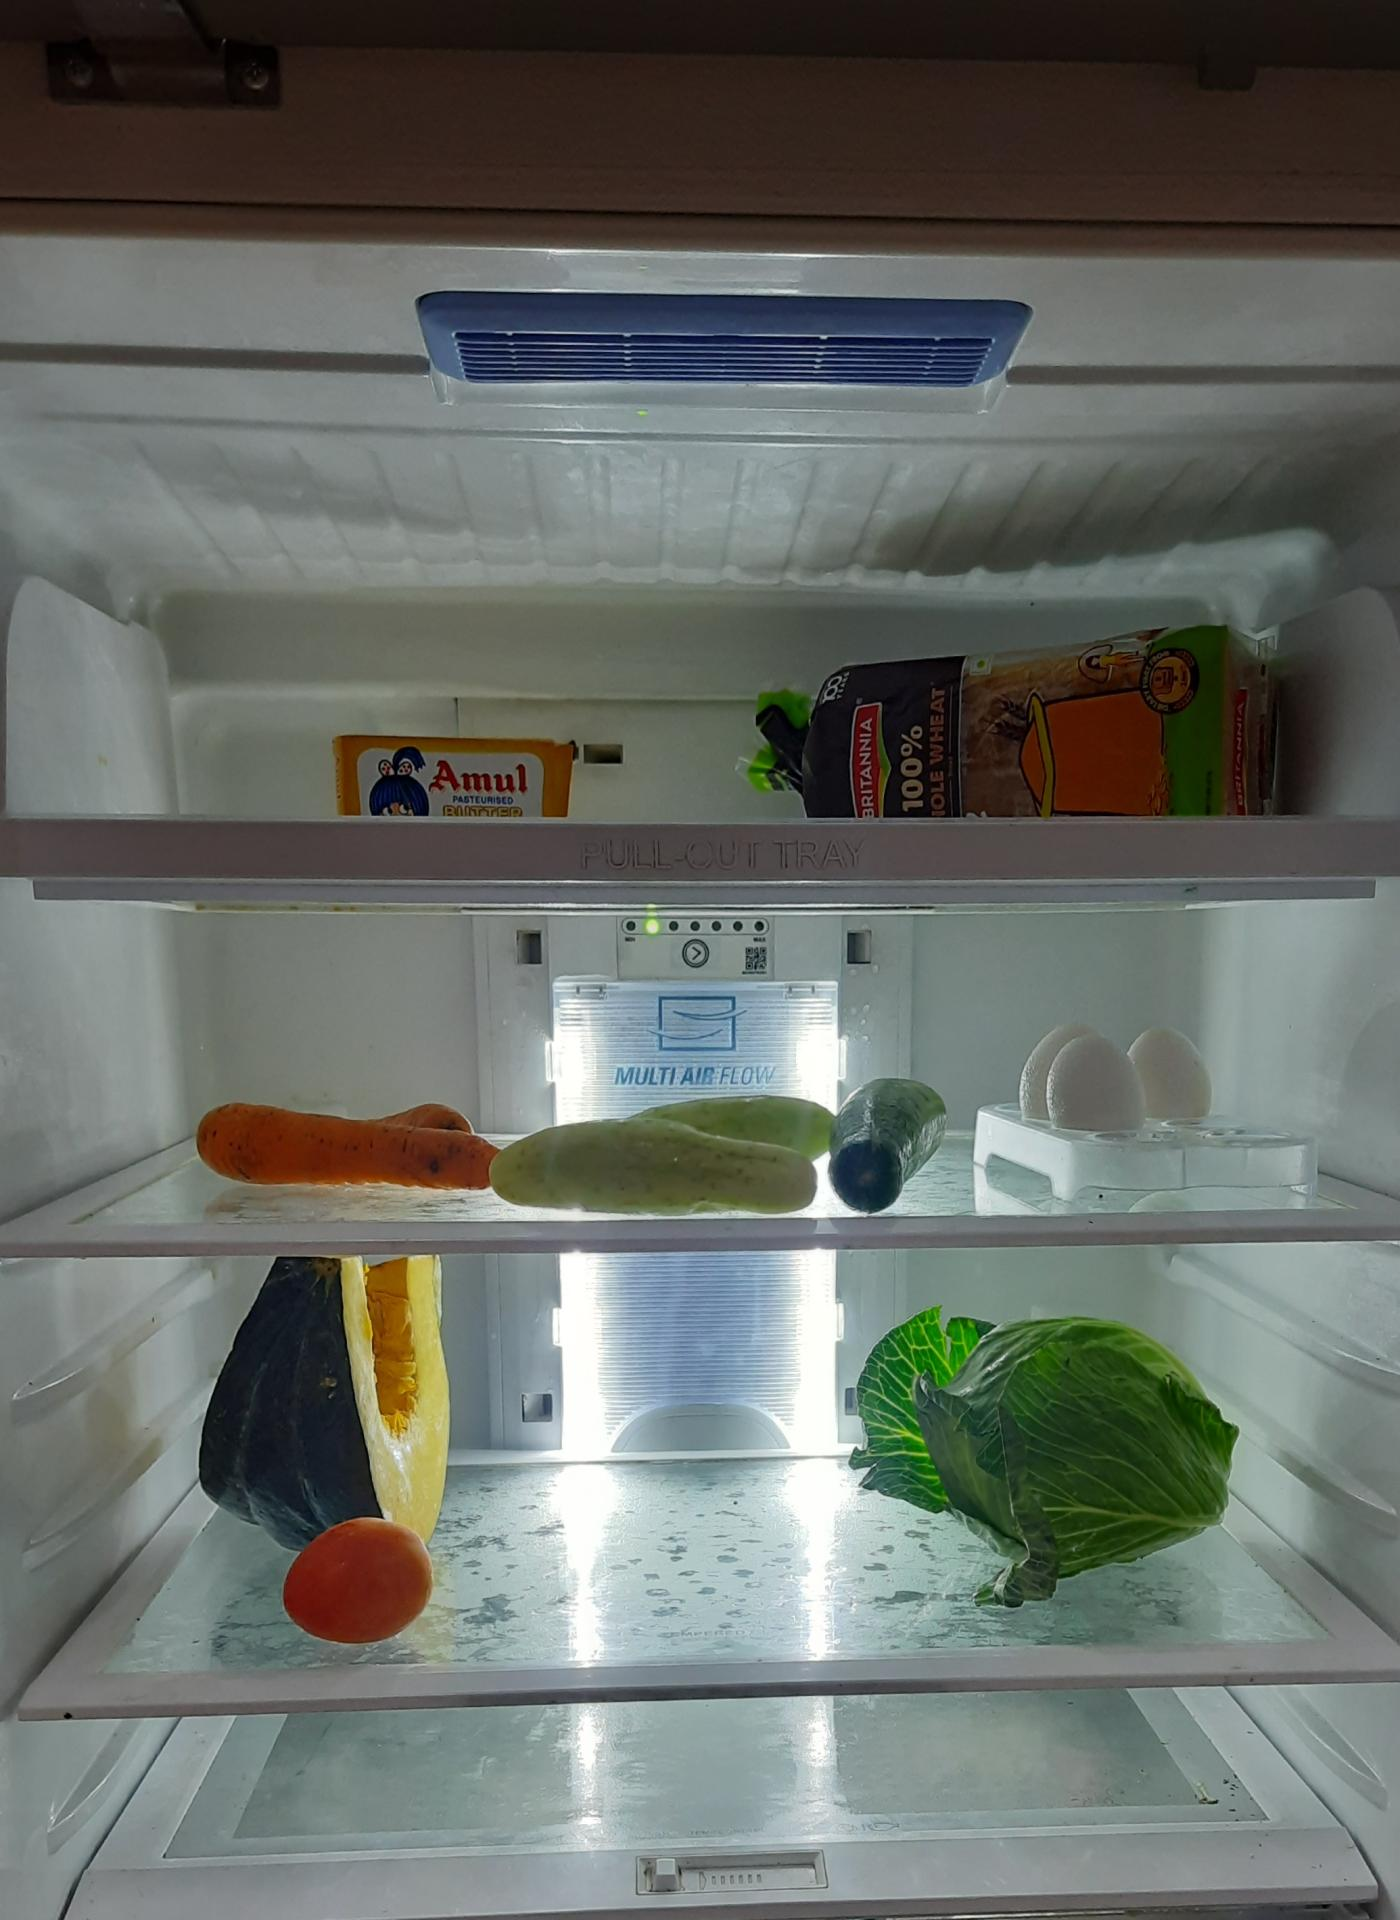bread: (750, 635, 1278, 830)
butter: (337, 724, 584, 818)
cabbage: (844, 1322, 1239, 1601)
carrots: (198, 1093, 502, 1185)
cucumber: (485, 1103, 836, 1209), (827, 1057, 965, 1228)
egg: (1023, 1023, 1218, 1137)
pumpkin: (197, 1255, 452, 1547)
tomato: (283, 1518, 440, 1644)
